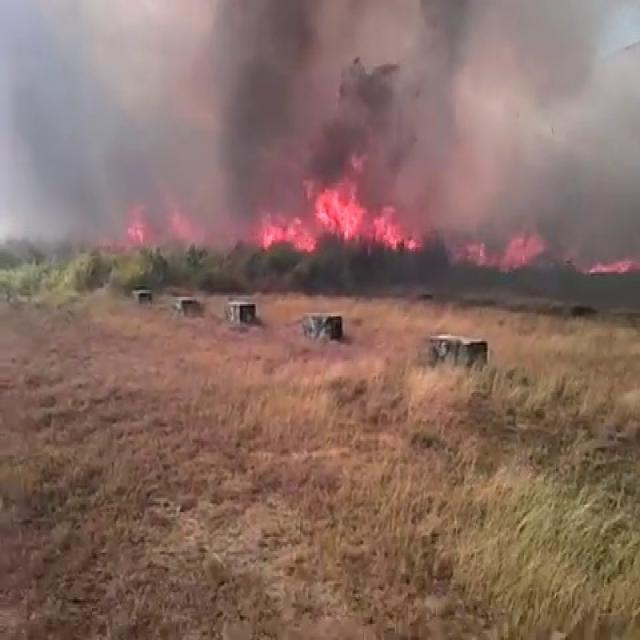Fire: (253, 170, 423, 264)
Smoke: (3, 0, 638, 260)
